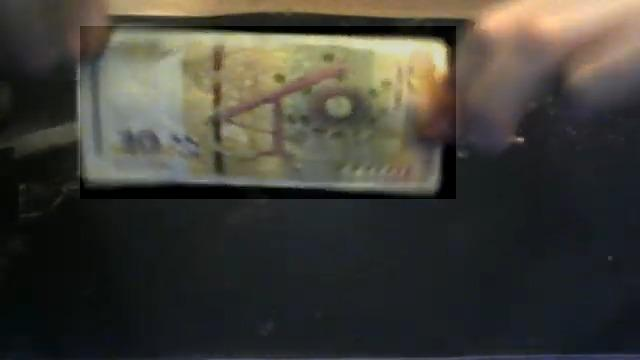10leva: (80, 26, 456, 199)
